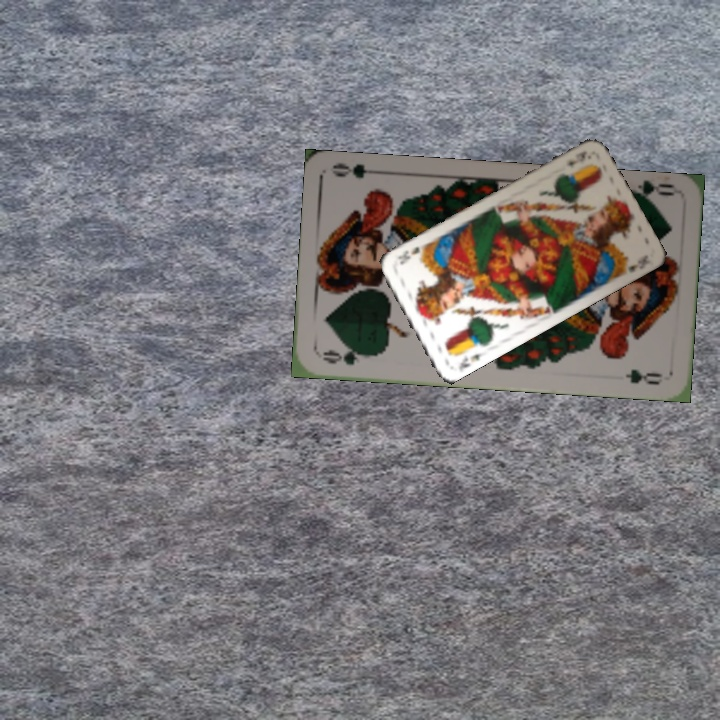EK: (455, 348, 487, 371), (563, 147, 590, 169)
GO: (618, 178, 678, 205), (319, 345, 376, 367)
